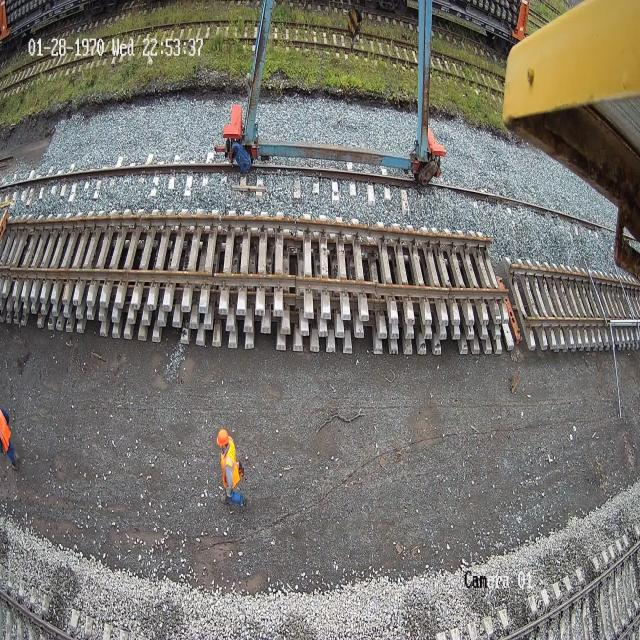Helmet: (216, 428, 229, 446)
Person: (216, 428, 246, 507), (0, 400, 24, 473)
